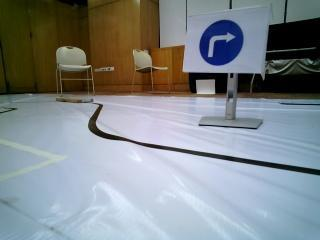right: (196, 12, 255, 70)
